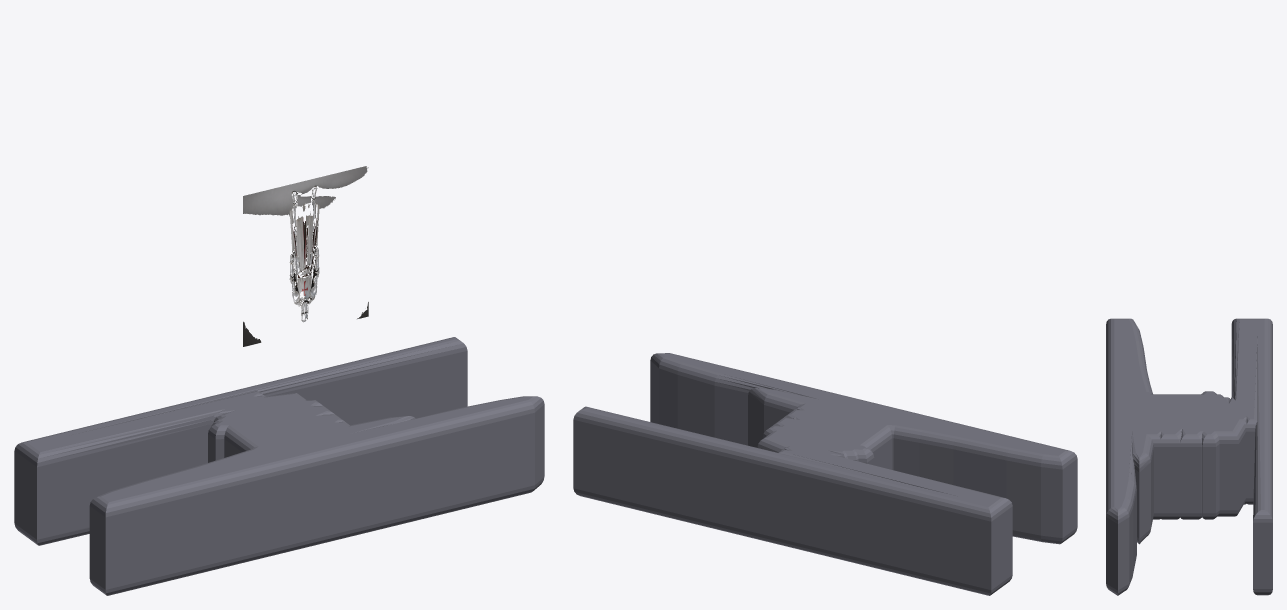
The model's file is europe_w.glb.
3 renders of one model, left to right at view 1: azimuth 30°, elevation 25°; view 2: azimuth 150°, elevation 25°; view 3: azimuth 270°, elevation 25°, orthographic. The views are drawn at different scales.
Visible parts, largest first — view 1: unit; view 2: unit; view 3: unit.
Part boxes in pixels (x1,y1,x2,y2): unit: (14,166,544,595); unit: (573,353,1077,595); unit: (1106,318,1272,595).
Size of the model in its own units: 0.9327 by 1 by 0.3304.
2 materials, 1 textured.
